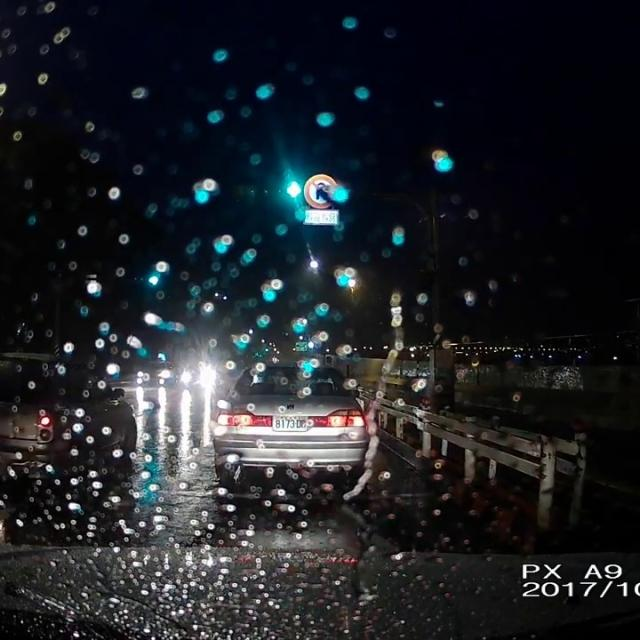Car: (212, 359, 370, 489), (0, 348, 138, 476), (177, 359, 218, 391), (137, 356, 177, 385)
